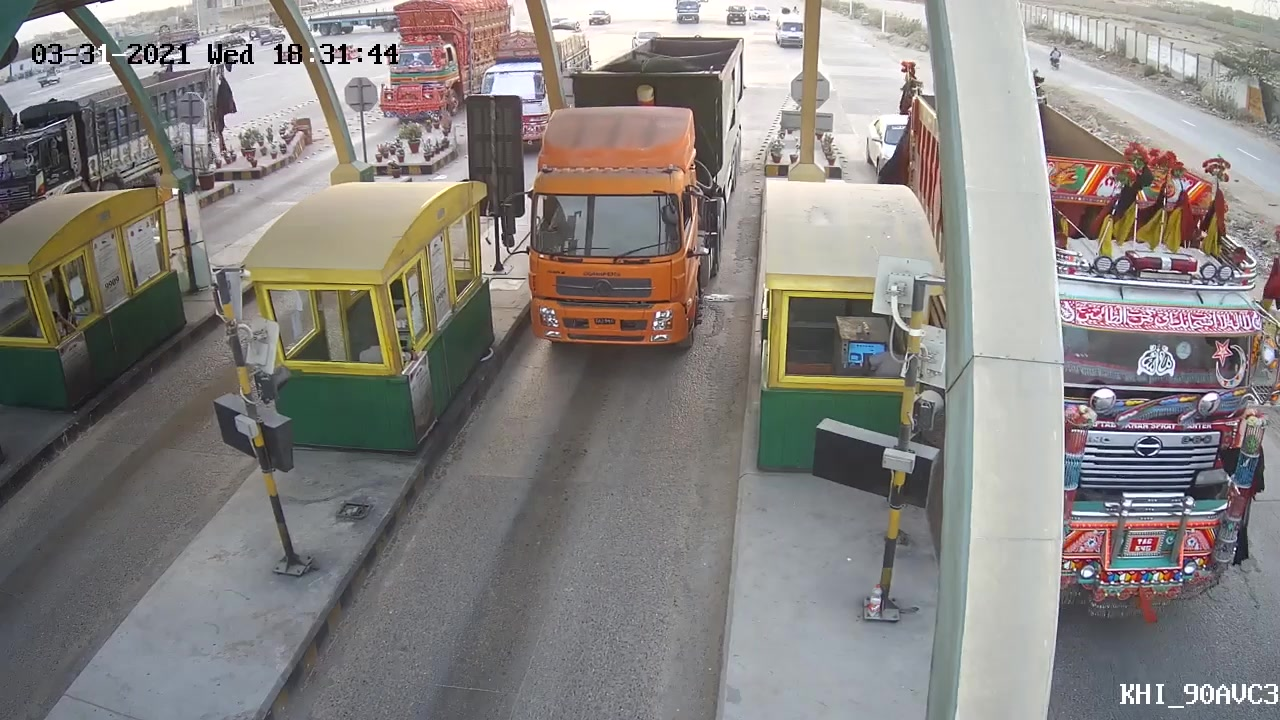F6: (519, 28, 751, 370)
